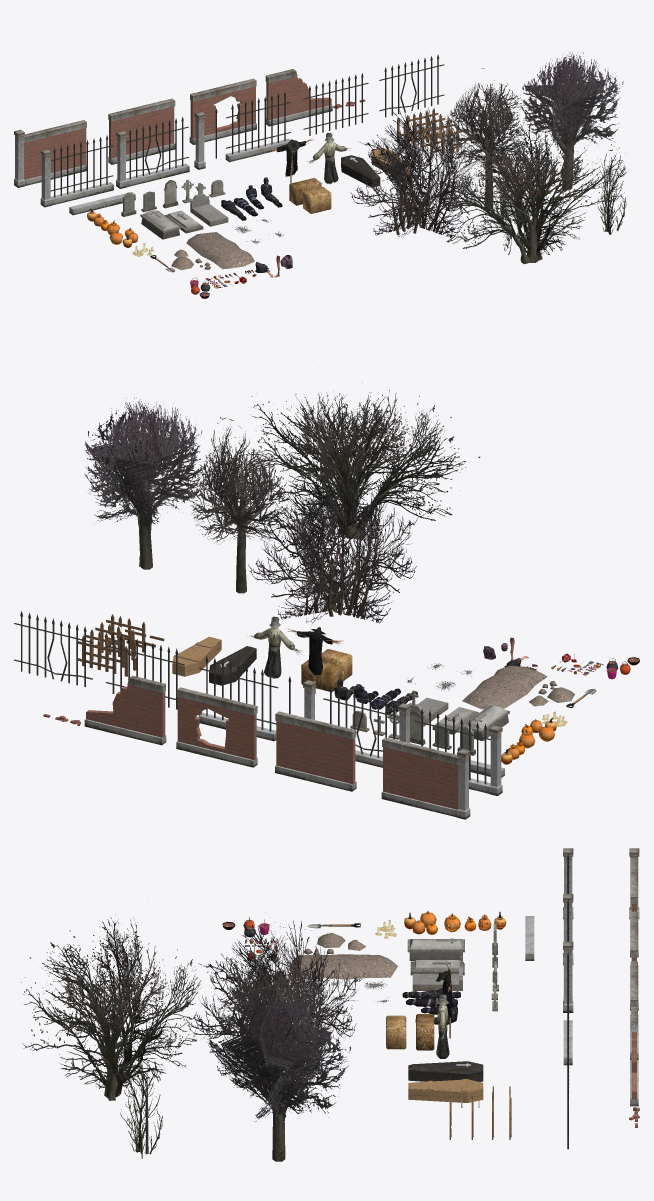
The model's file is halloween.glb.
3 renders of one model, top to bottom at view 1: azimuth 30°, elevation 25°; view 2: azimuth 150°, elevation 25°; view 3: azimuth 270°, elevation 25°, orthographic. The views are drawn at different scales.
Parts seen in each view (by area): view 1: Tree_04_Tree_04_0, Fence_Metal_Concrete_0, Tree_02_Tree_02_0, Wall_BrickSmallBrown_0, Tree_Tree_0, Fence_Metal_Metal_0, Tree_01_Tree_01_0, Tree_BarkDecidious_0, Farmland_02_Farmland_0, Fence_WoodPlanksOld_0, Straw_01_Straw_0, Tree_03_Tree_03_0 (+8 smaller); view 2: Tree_04_Tree_04_0, Wall_BrickSmallBrown_0, Tree_02_Tree_02_0, Tree_Tree_0, Fence_Metal_Concrete_0, Fence_Metal_Metal_0, Tree_01_Tree_01_0, Tree_BarkDecidious_0, Farmland_02_Farmland_0, Fence_WoodPlanksOld_0, Straw_01_Straw_0, Coffin_01_Coffin_01_0 (+4 smaller); view 3: Tree_04_Tree_04_0, Tree_Tree_0, Tree_02_Tree_02_0, Fence_Metal_Concrete_0, Tree_01_Tree_01_0, Farmland_02_Farmland_0, Coffin_01_Coffin_01_0, Tree_BarkDecidious_0, Tree_03_Tree_03_0, Straw_01_Straw_0, Coffin_Coffin_0, Stone_08_Stone_08_0 (+7 smaller).
Boxes of the visible parts, bbox=[...] form: Tree_04_Tree_04_0: bbox=[436, 120, 625, 261]; Fence_Metal_Concrete_0: bbox=[14, 69, 332, 215]; Tree_02_Tree_02_0: bbox=[350, 107, 482, 238]; Wall_BrickSmallBrown_0: bbox=[24, 76, 365, 179]; Tree_Tree_0: bbox=[520, 52, 623, 163]; Fence_Metal_Metal_0: bbox=[50, 54, 444, 197]; Tree_01_Tree_01_0: bbox=[441, 68, 526, 172]; Tree_BarkDecidious_0: bbox=[391, 74, 625, 264]; Farmland_02_Farmland_0: bbox=[171, 232, 254, 270]; Fence_WoodPlanksOld_0: bbox=[397, 109, 462, 157]; Straw_01_Straw_0: bbox=[289, 178, 331, 213]; Tree_03_Tree_03_0: bbox=[597, 144, 626, 234]; Tree_04_Tree_04_0: bbox=[245, 390, 480, 538]; Wall_BrickSmallBrown_0: bbox=[43, 685, 458, 809]; Tree_02_Tree_02_0: bbox=[248, 461, 418, 623]; Tree_Tree_0: bbox=[84, 397, 204, 568]; Fence_Metal_Concrete_0: bbox=[84, 675, 504, 819]; Fence_Metal_Metal_0: bbox=[14, 611, 490, 784]; Tree_01_Tree_01_0: bbox=[189, 425, 292, 544]; Tree_BarkDecidious_0: bbox=[136, 421, 408, 616]; Farmland_02_Farmland_0: bbox=[462, 665, 574, 709]; Fence_WoodPlanksOld_0: bbox=[78, 614, 164, 676]; Straw_01_Straw_0: bbox=[301, 649, 352, 691]; Coffin_01_Coffin_01_0: bbox=[172, 636, 221, 676]; Tree_04_Tree_04_0: bbox=[21, 914, 208, 1096]; Tree_Tree_0: bbox=[207, 988, 350, 1161]; Tree_02_Tree_02_0: bbox=[186, 920, 364, 1080]; Fence_Metal_Concrete_0: bbox=[525, 848, 639, 1106]; Tree_01_Tree_01_0: bbox=[217, 938, 338, 1052]; Farmland_02_Farmland_0: bbox=[289, 933, 397, 979]; Coffin_01_Coffin_01_0: bbox=[408, 1078, 483, 1102]; Tree_BarkDecidious_0: bbox=[86, 970, 292, 1161]; Tree_03_Tree_03_0: bbox=[118, 1051, 162, 1154]; Straw_01_Straw_0: bbox=[386, 1014, 434, 1050]; Coffin_Coffin_0: bbox=[408, 1061, 483, 1081]; Stone_08_Stone_08_0: bbox=[407, 938, 464, 960].
Bounding box in the file's own units: 24.18 × 7.72 × 22.37.
42 materials, 42 textured.
